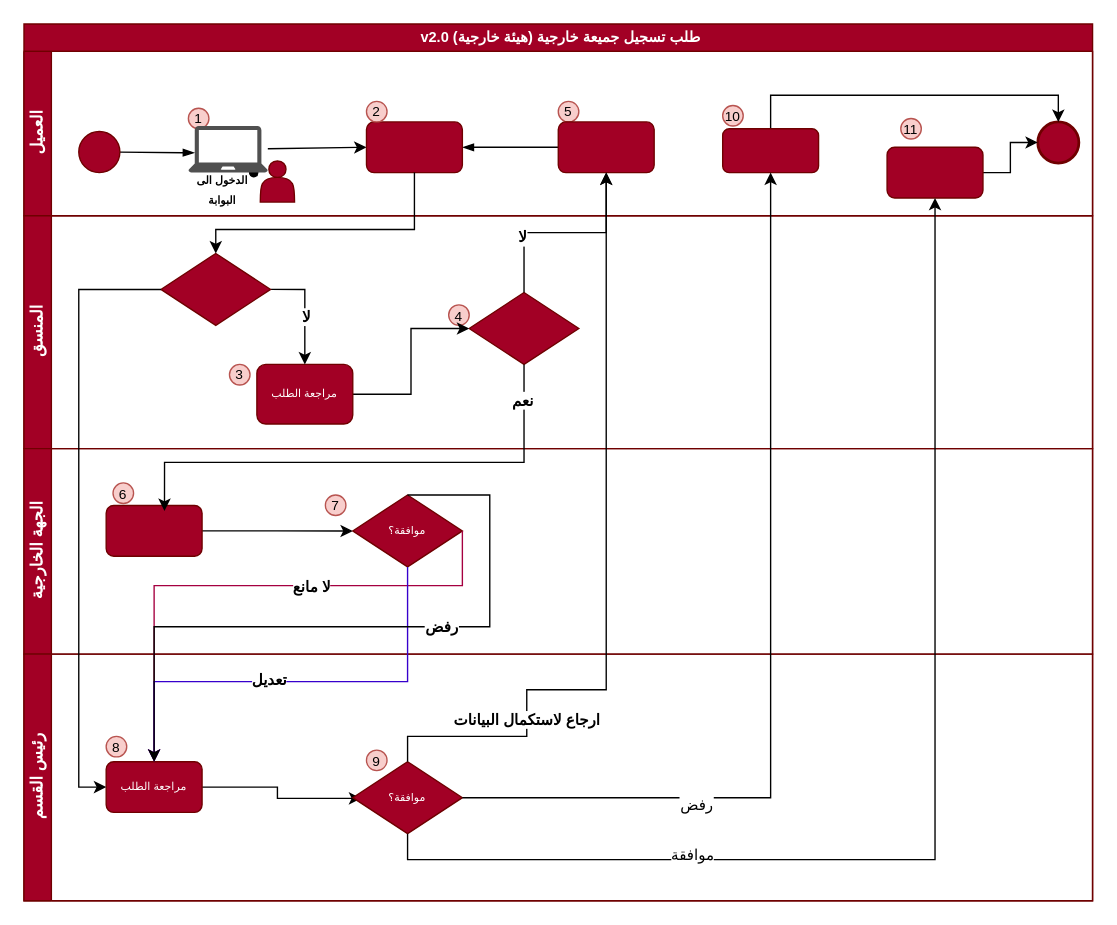
Some shapes in this 1117 by 925 pixel diagram are drawn without their labels. The shapes that lost their labels are listed below. From the top down, each one's centre as x and y in pixels, then its label:
the point at 98,151: بداية
the point at 413,147: تعبئة وتقديم نموذج الطلب
the point at 605,147: استكمال البيانات المطلوبة و اعادة الارسال
the point at 770,150: ارسال رسالة إعتذار
the point at 1058,142: اغلاق
the point at 934,172: ارسال رسالة موافقة
the point at 215,288: من رئيس القسم؟ في حال مرجع من رئيسر القسم
the point at 523,327: الطلب مكتمل؟
the point at 153,530: مراجعة الطلب و اعطاء التوصيات
